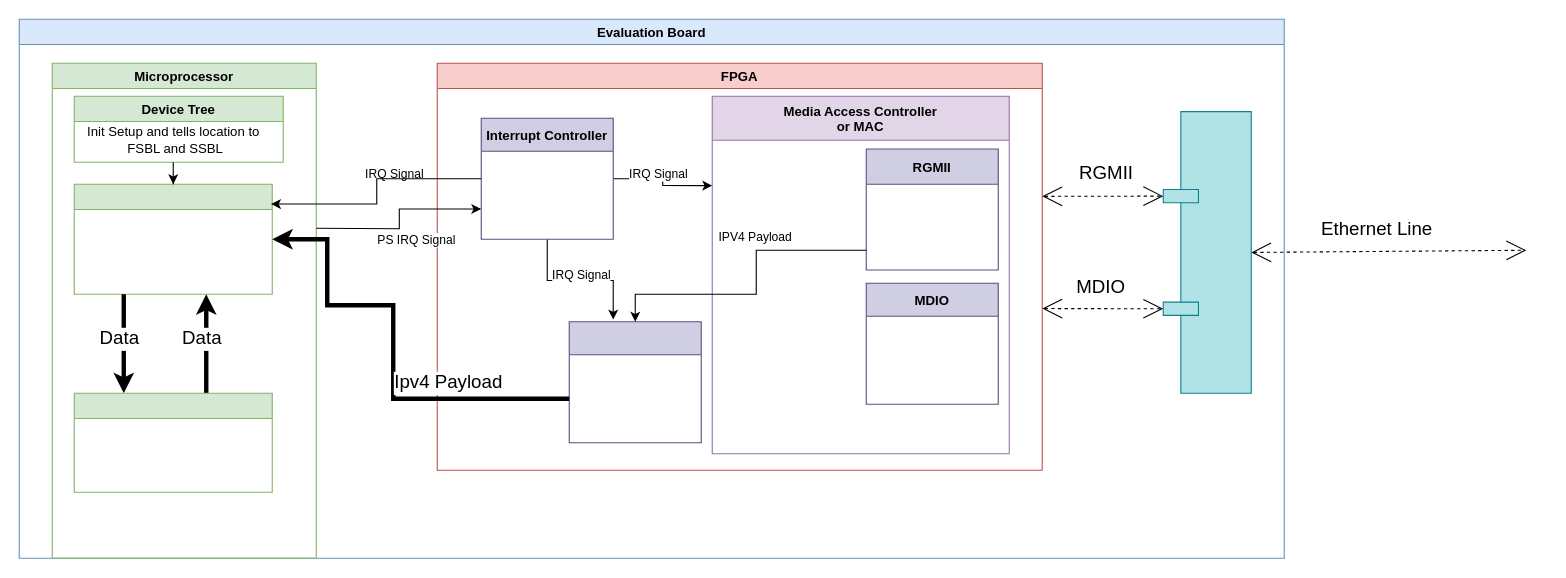
Some shapes in this 1566 by 578 pixel diagram are drawn without their labels. The centre of each missing label's shape, as x and y in pixels:
"Application" goes at (x=172, y=442).
"Axi Ethernet Kernel" goes at (x=172, y=238).
"FIFO or DMA" goes at (x=634, y=382).
"PHY" goes at (x=1206, y=252).
